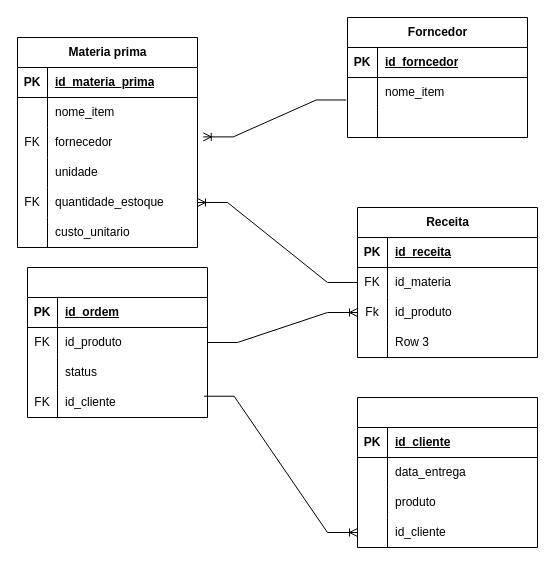
Some shapes in this 555 by 565 pixel diagram are drawn without their labels. Each missing label, with the box of its shape:
ordem de produção: (356, 396, 538, 548)
Produto Final: (26, 266, 208, 418)
